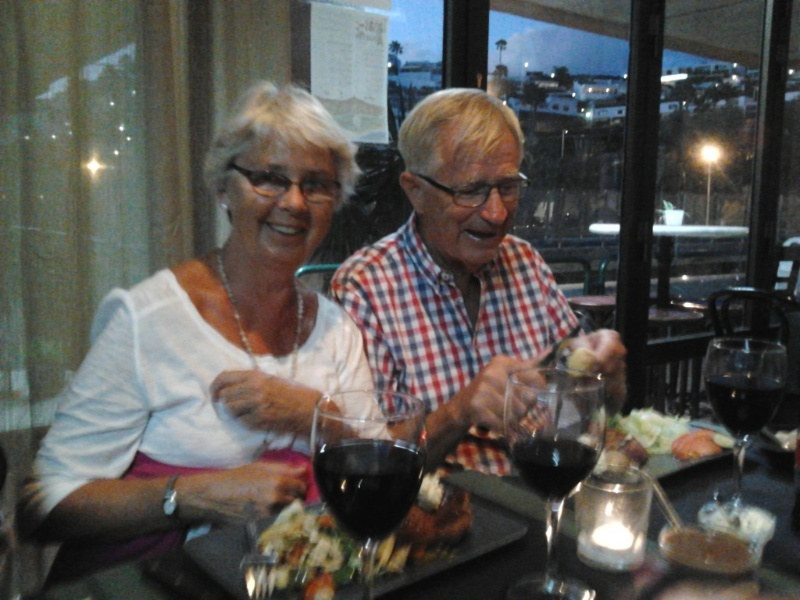Glas: (305, 389, 438, 548), (503, 366, 602, 508), (697, 337, 788, 454)
